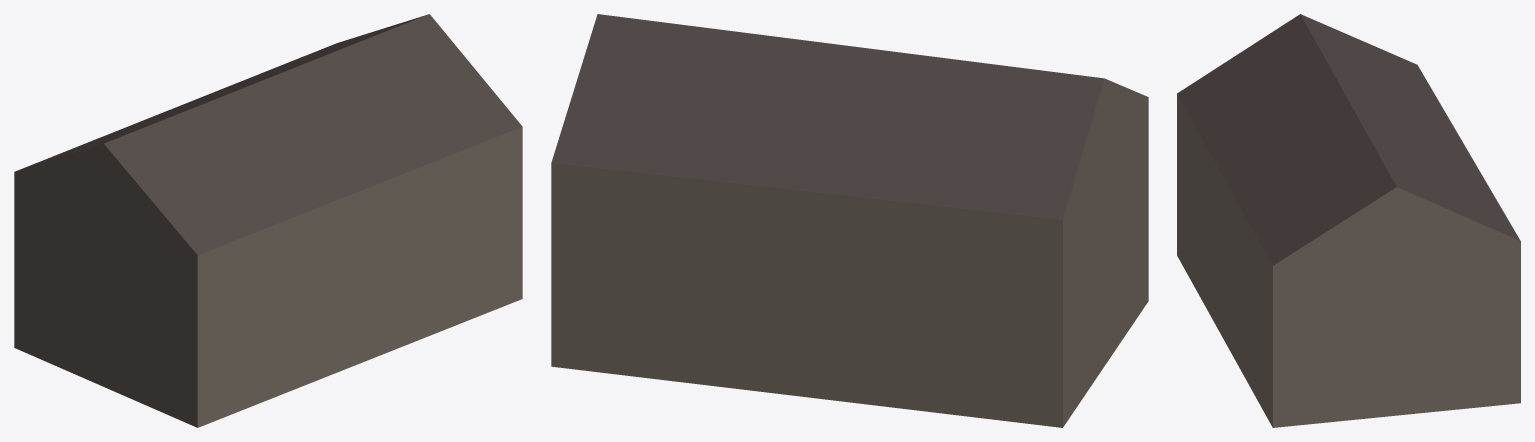
3 views of the same model, side by side, from view 1: azimuth 30°, elevation 25°; view 2: azimuth 150°, elevation 25°; view 3: azimuth 270°, elevation 25° (orthographic). The views are drawn at different scales.
Visible parts, largest first — view 1: HP-w1200835402; view 2: HP-w1200835402; view 3: HP-w1200835402.
Part boxes in pixels (x1,y1,x2,y2): HP-w1200835402: [14, 14, 522, 427]; HP-w1200835402: [551, 14, 1148, 427]; HP-w1200835402: [1177, 14, 1520, 427].
Size of the model in its own units: 15.71 by 8.47 by 11.54.
